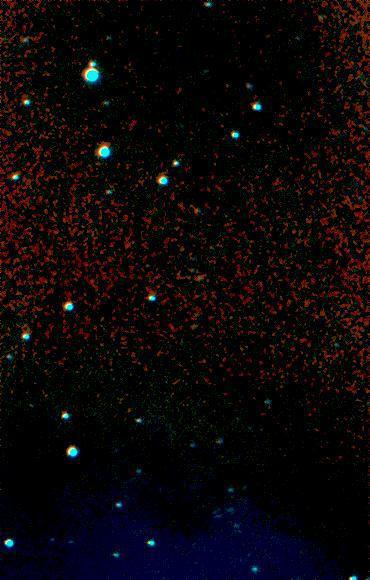star: (182, 532, 212, 562)
